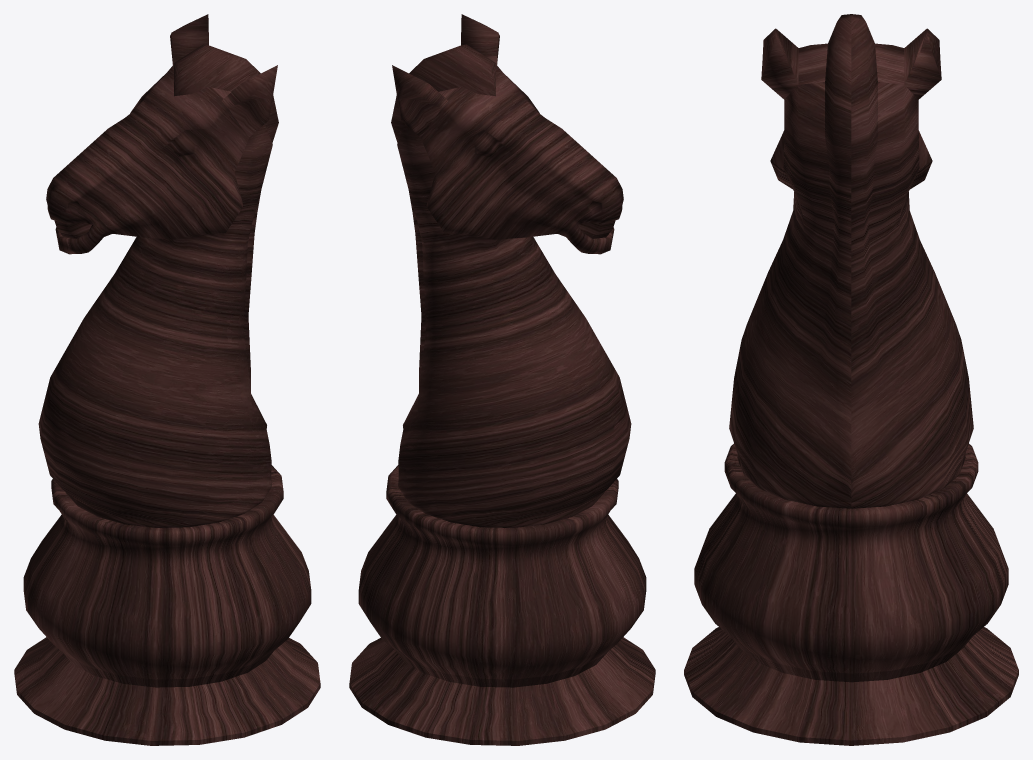
The model's file is Black_Knight.dae.
3 renders of one model, left to right at view 1: azimuth 30°, elevation 25°; view 2: azimuth 150°, elevation 25°; view 3: azimuth 270°, elevation 25°, orthographic. The views are drawn at different scales.
Parts seen in each view (by area): view 1: White_knight; view 2: White_knight; view 3: White_knight.
Boxes of the visible parts, x1,y1,x2,y2 form: White_knight: (14, 14, 320, 745); White_knight: (349, 14, 655, 745); White_knight: (684, 14, 1018, 745).
Bounding box in the file's own units: 1.62 × 3.63 × 1.62.
1 material, 1 textured.
